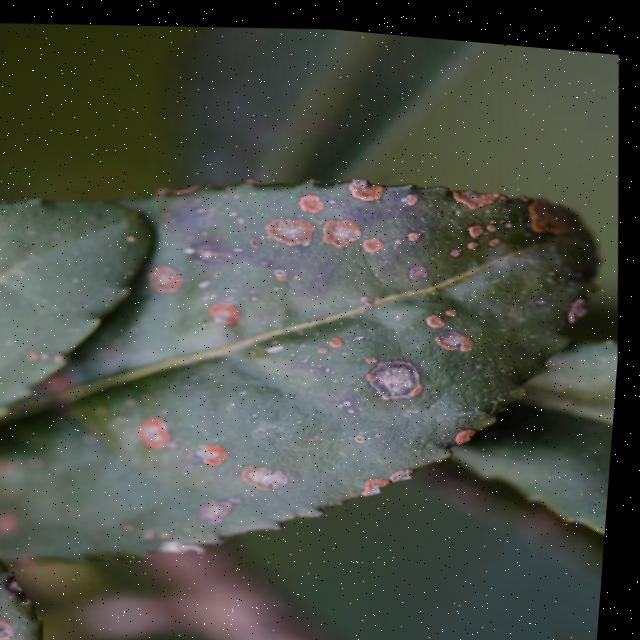Tea algae leaf spot: (121, 121, 609, 578)
